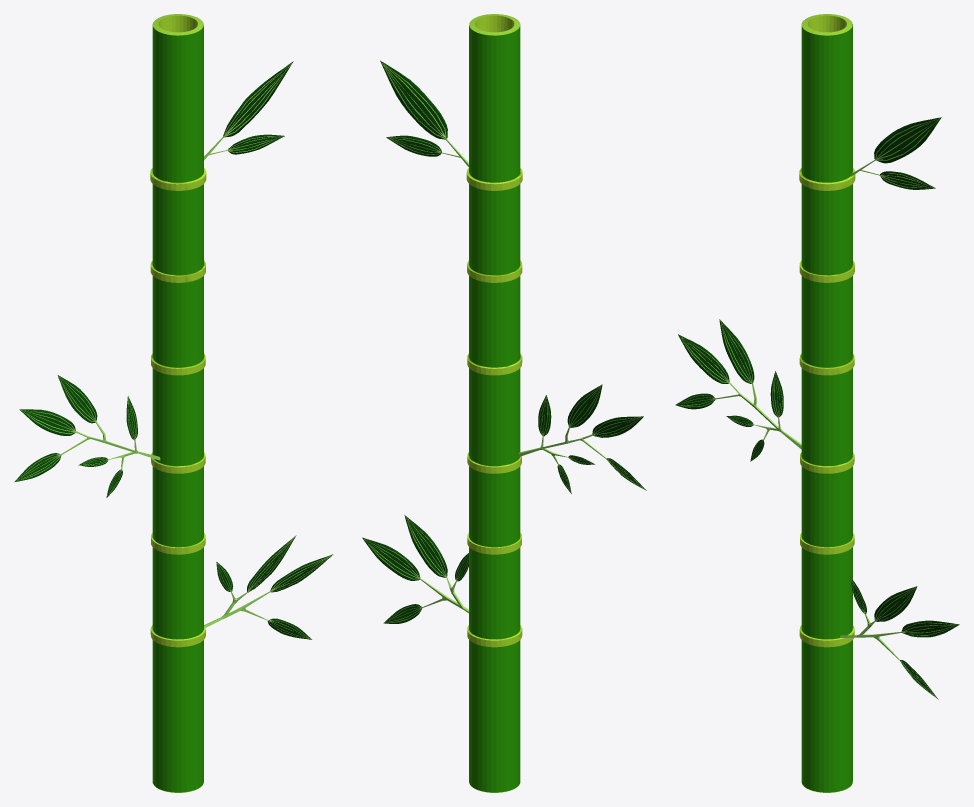
File: bamboo.fbx
3 views of the same model, side by side, from view 1: azimuth 30°, elevation 25°; view 2: azimuth 150°, elevation 25°; view 3: azimuth 330°, elevation 25° (orthographic).
Visible parts, largest first — view 1: Cylinder, Batang.048, Daun.057, Daun.064, Daun.063, Daun.061, Daun.059, Daun.058, Cabang.013, Daun.065; view 2: Cylinder, Batang.048, Daun.057, Daun.059, Daun.061, Daun.063, Daun.064, Daun.058, Cabang.013; view 3: Cylinder, Batang.048, Daun.057, Daun.063, Daun.064, Daun.059, Daun.061, Daun.058, Cabang.013, Cube.013.
Part boxes in pixels (x1=…): Cylinder: x1=152, y1=17, x2=203, y2=792; Batang.048: x1=150, y1=14, x2=206, y2=792; Daun.057: x1=223, y1=61, x2=293, y2=137; Daun.064: x1=19, y1=409, x2=75, y2=435; Daun.063: x1=57, y1=375, x2=97, y2=423; Daun.061: x1=270, y1=554, x2=333, y2=592; Daun.059: x1=247, y1=535, x2=296, y2=592; Daun.058: x1=228, y1=134, x2=284, y2=154; Cabang.013: x1=204, y1=63, x2=291, y2=160; Daun.065: x1=14, y1=453, x2=61, y2=481; Cylinder: x1=469, y1=20, x2=520, y2=792; Batang.048: x1=466, y1=14, x2=522, y2=792; Daun.057: x1=380, y1=60, x2=447, y2=139; Daun.059: x1=404, y1=515, x2=447, y2=577; Daun.061: x1=362, y1=537, x2=420, y2=580; Daun.063: x1=567, y1=384, x2=602, y2=427; Daun.064: x1=592, y1=416, x2=643, y2=437; Daun.058: x1=386, y1=135, x2=441, y2=156; Cabang.013: x1=381, y1=62, x2=468, y2=166; Cylinder: x1=801, y1=20, x2=852, y2=792; Batang.048: x1=799, y1=14, x2=855, y2=792; Daun.057: x1=874, y1=117, x2=941, y2=163; Daun.063: x1=719, y1=319, x2=754, y2=383; Daun.064: x1=678, y1=334, x2=729, y2=383; Daun.059: x1=874, y1=586, x2=917, y2=621; Daun.061: x1=902, y1=620, x2=959, y2=637; Daun.058: x1=880, y1=171, x2=935, y2=189; Cabang.013: x1=850, y1=118, x2=940, y2=176; Cube.013: x1=715, y1=382, x2=801, y2=449.
Size of the model in its own units: 5612 by 13456 by 902.
